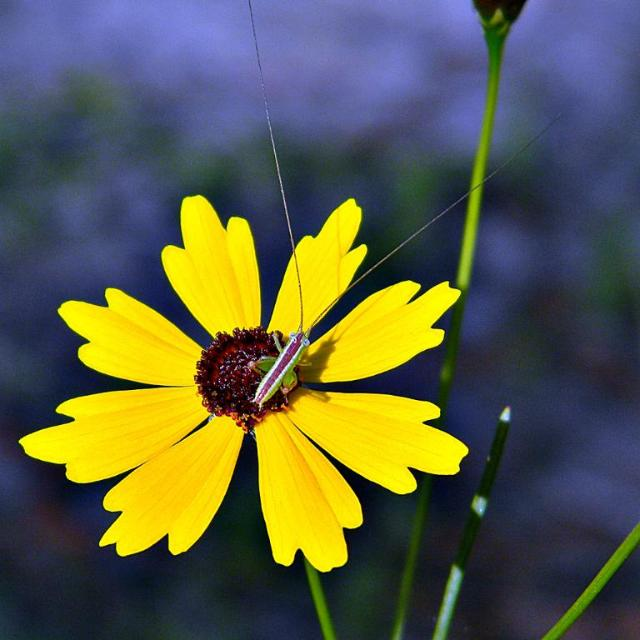Flower: (13, 198, 470, 578)
